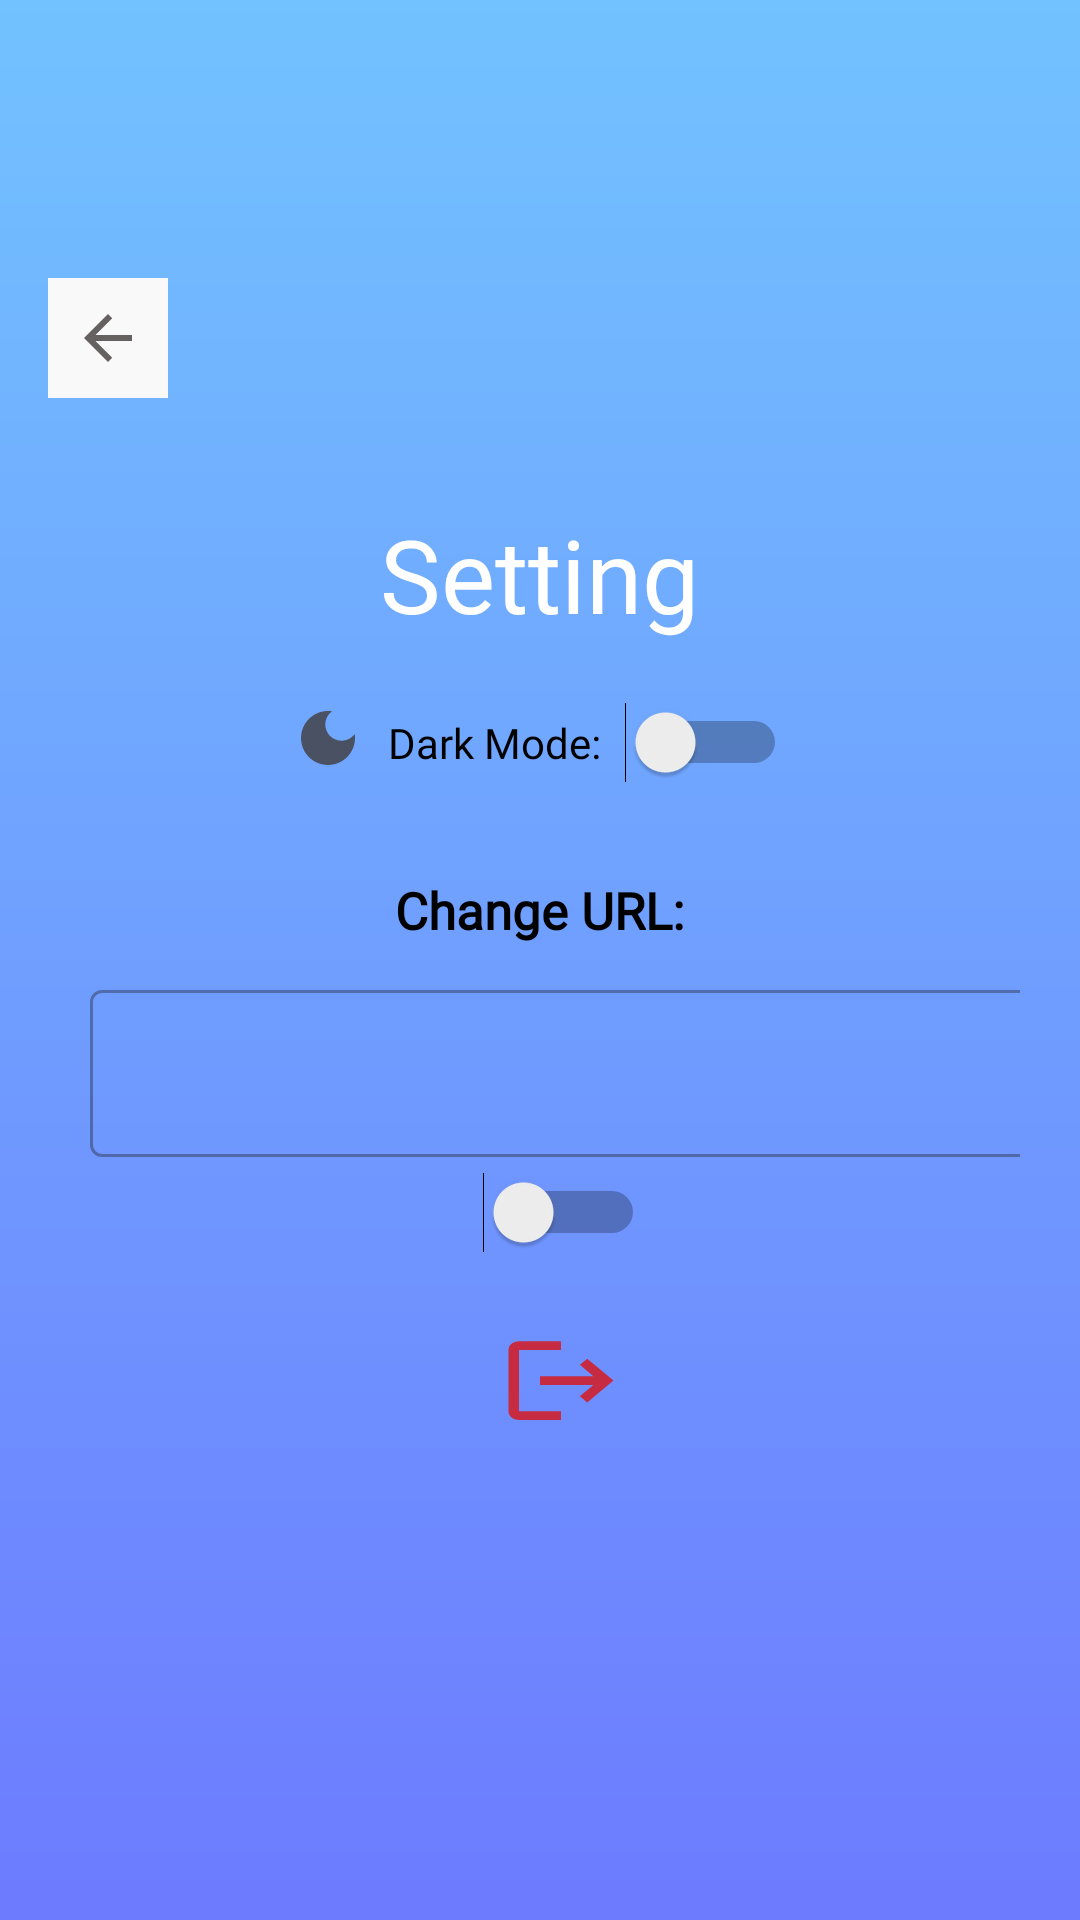

Locate icon controls on the screen. Image size 1080 x 1920, boxes as (x1, y1, x2, y2).
Moon Icon: (301, 711, 355, 765)
Return Icon: (48, 278, 168, 398)
